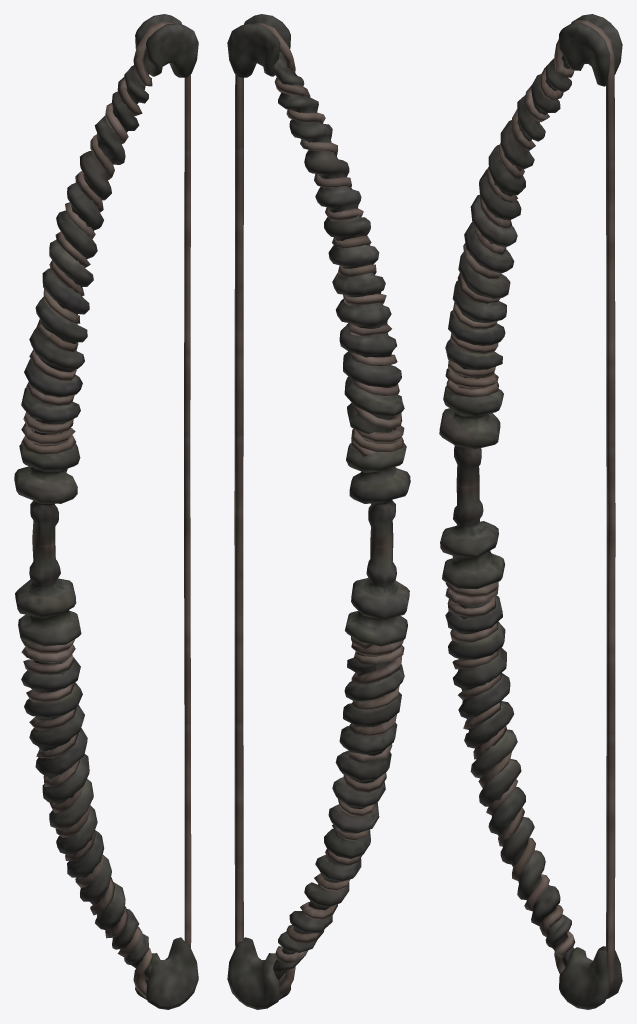
File: weapon-wp_a_1407.glb
3 views of the same model, side by side, from view 1: azimuth 30°, elevation 25°; view 2: azimuth 150°, elevation 25°; view 3: azimuth 330°, elevation 25° (orthographic).
Visible parts, largest first — view 1: wp_a_1407_mesh; view 2: wp_a_1407_mesh; view 3: wp_a_1407_mesh.
Boxes of the visible parts, <box> form: wp_a_1407_mesh: <box>14,14,198,1009</box>; wp_a_1407_mesh: <box>227,14,410,1009</box>; wp_a_1407_mesh: <box>439,14,622,1009</box>.
Size of the model in its own units: 0.4753 by 2.57 by 0.1662.
1 material, 1 textured.
